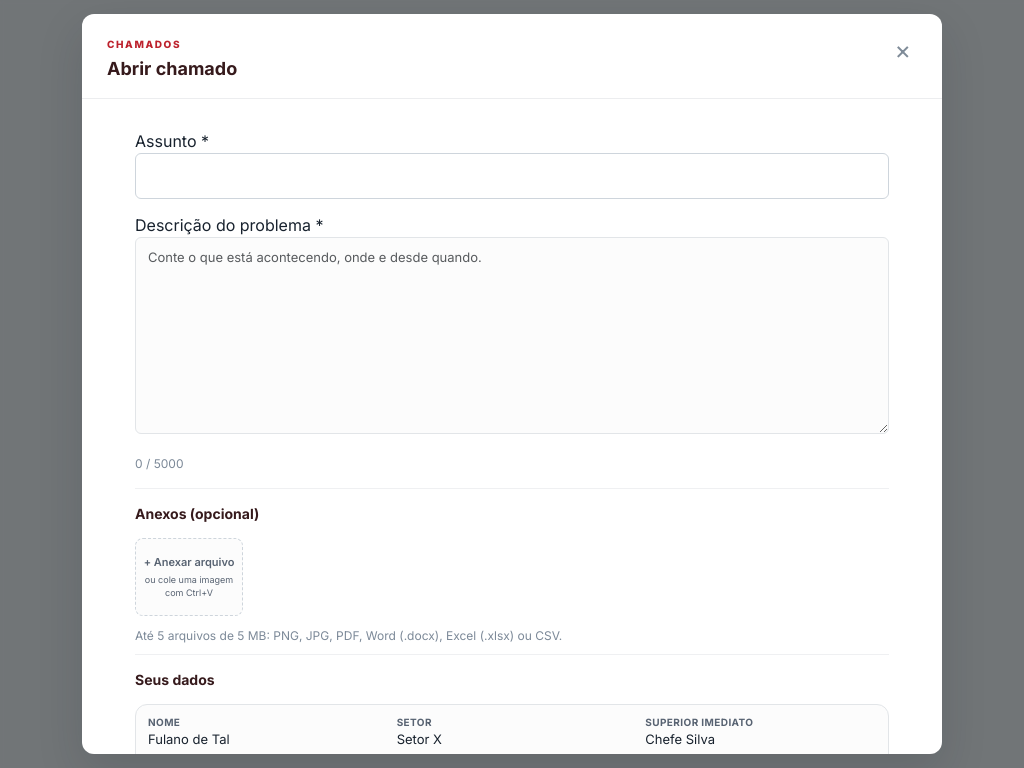
Scenario: AbrirChamadoComponent › em erro mantém o texto digitado e mostra a mensagem da API
Type "Sem rede" into the field with id "chamado-assunto" at point(512, 176), box left=135, top=153, right=889, bottom=199
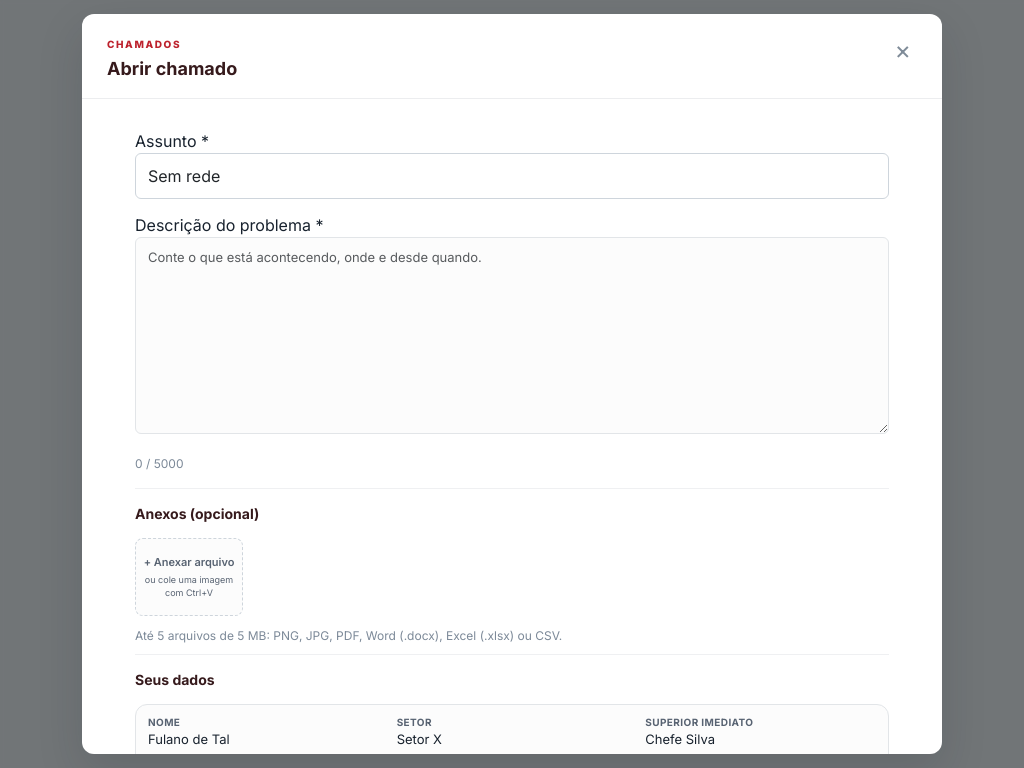
Type "Meu computador está sem rede." into the text box with id "chamado-descricao" at point(512, 335), box left=135, top=237, right=889, bottom=434
(page scrolled)
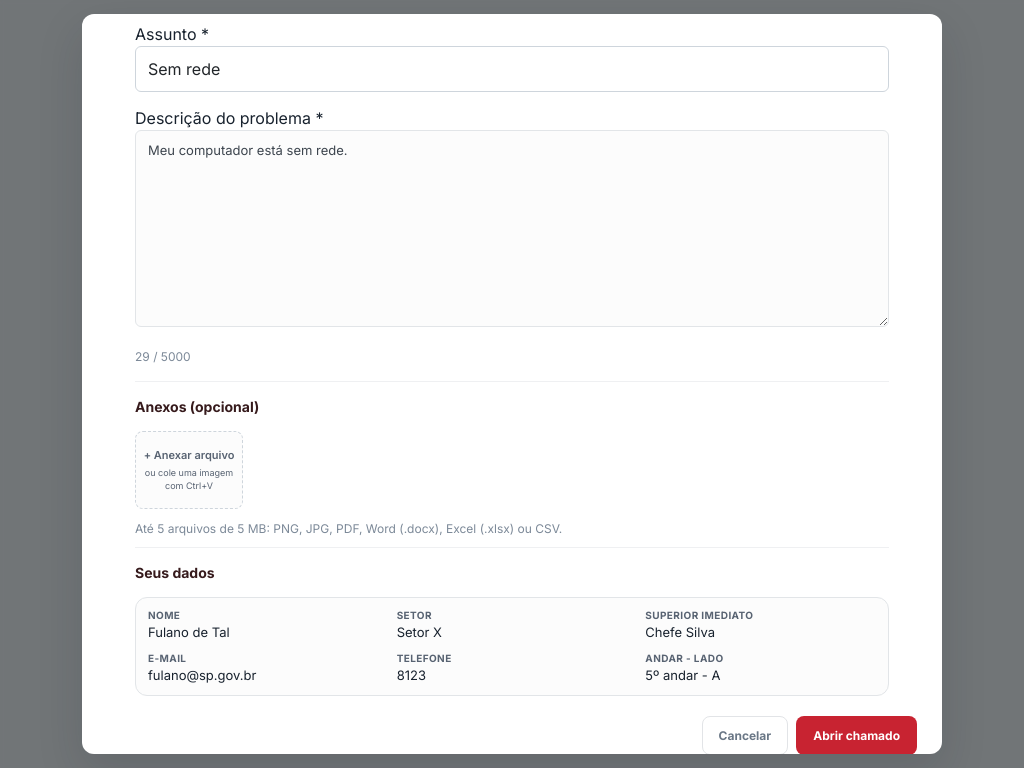
Submit the form
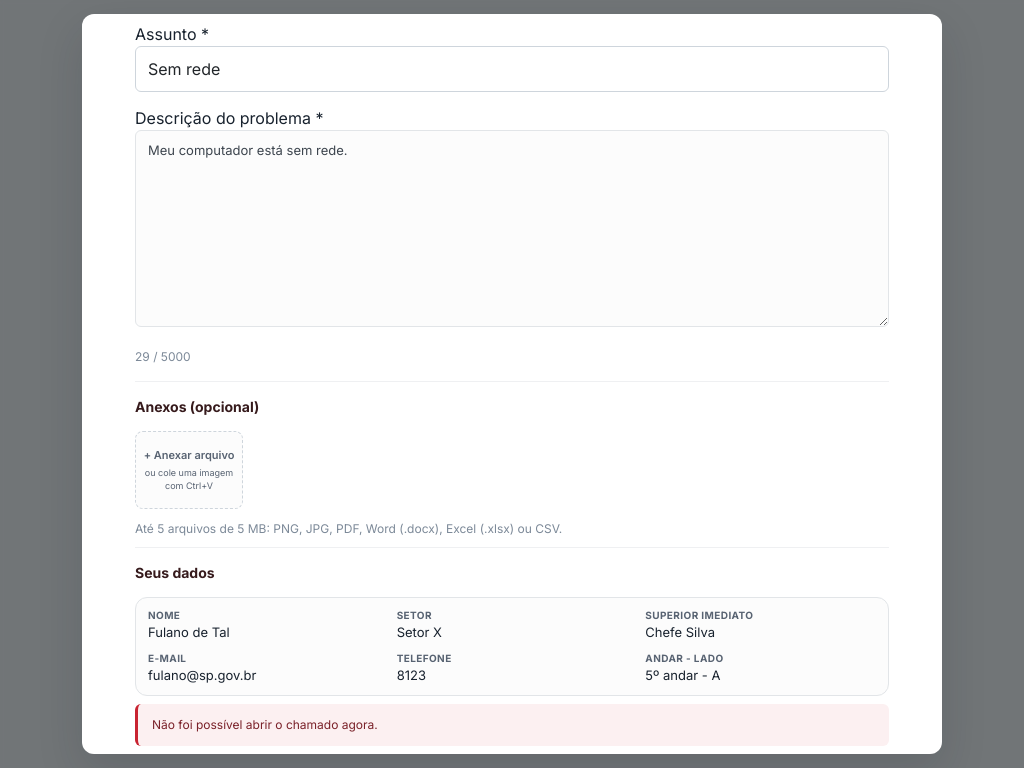
Expected: the text "Não foi possível abrir o chamado agora." is shown, left=135, top=704, right=889, bottom=746
